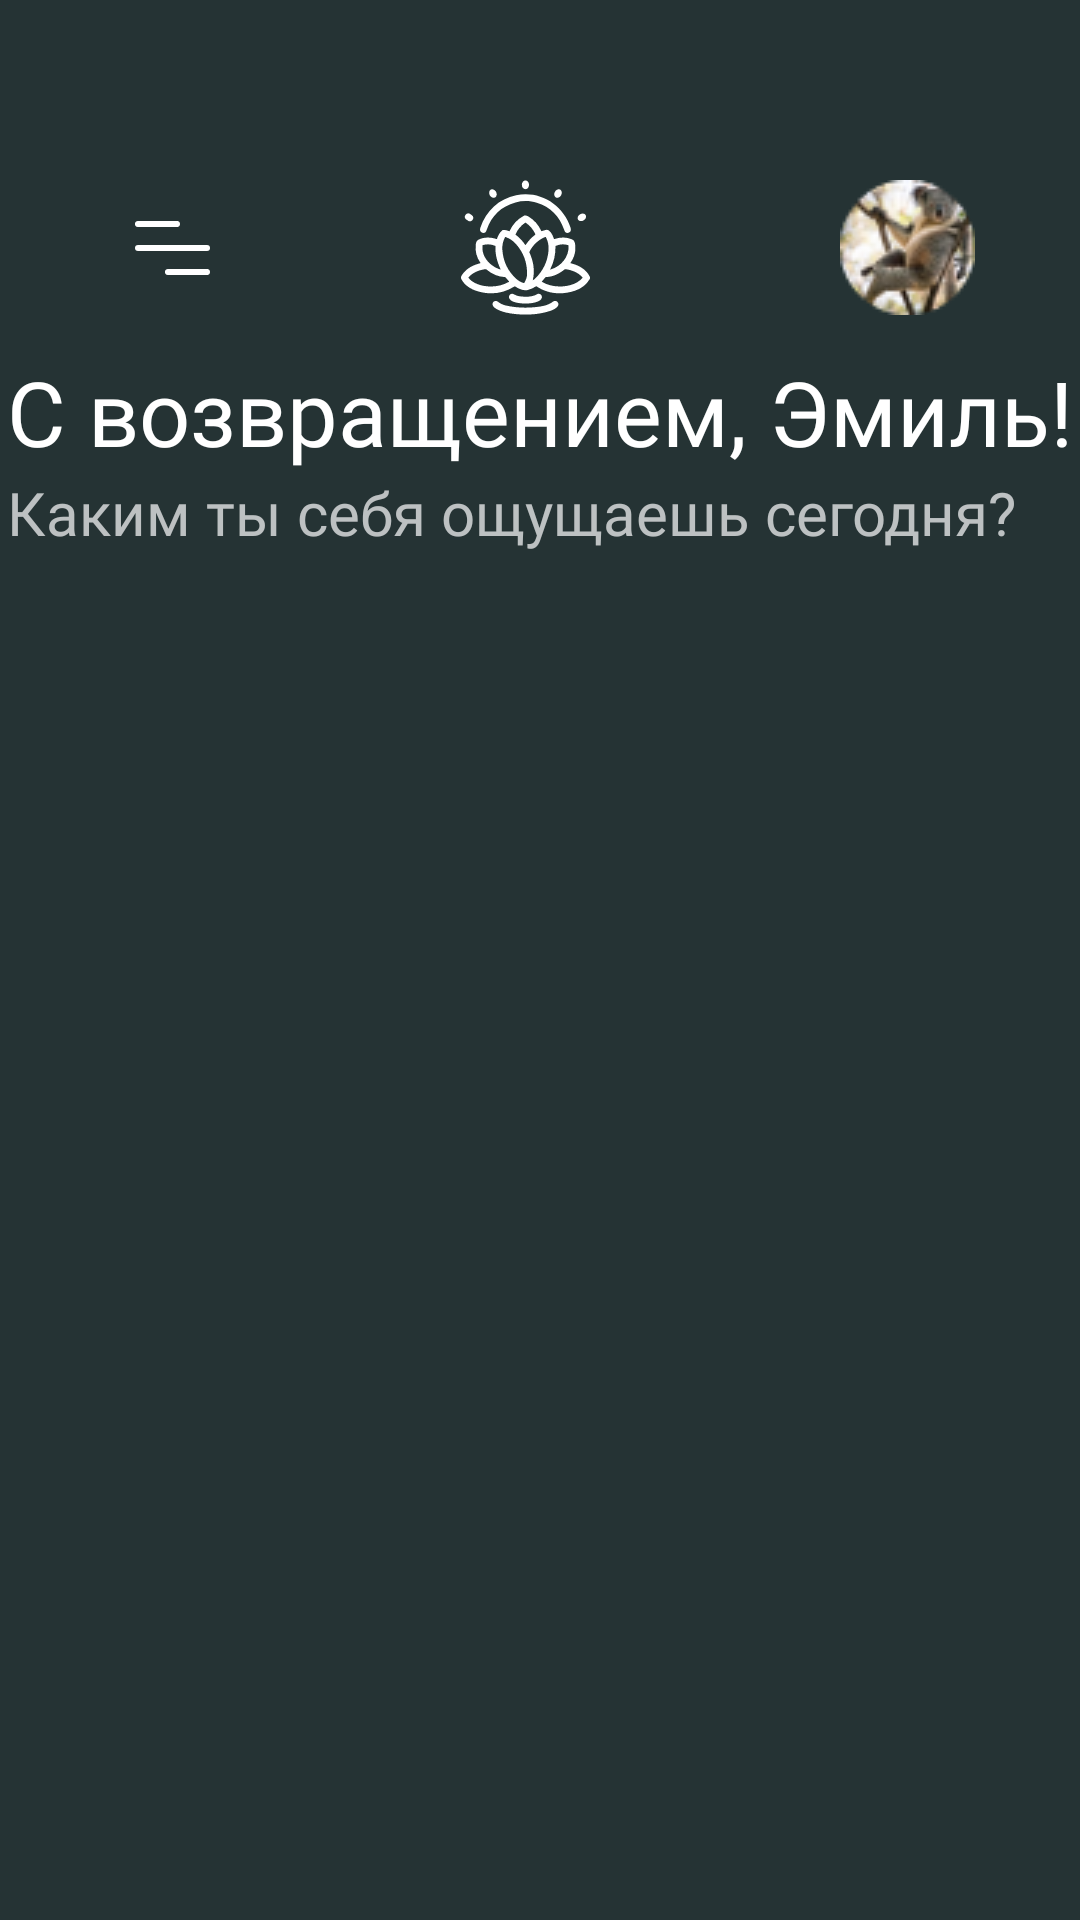

Icon bounding boxes for this 1080w x 1920h phone screenshot, format box=[x1, y1, x2, y2]:
lotus: box=[461, 180, 590, 315]
